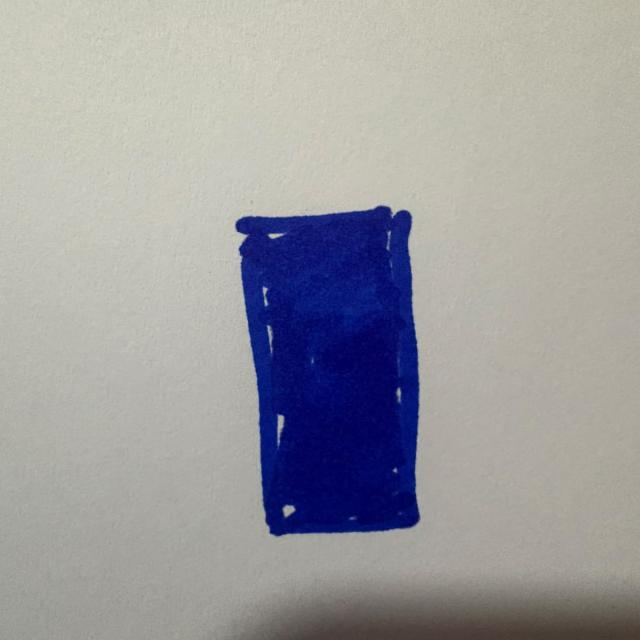Rectangle: (236, 206, 420, 537)
